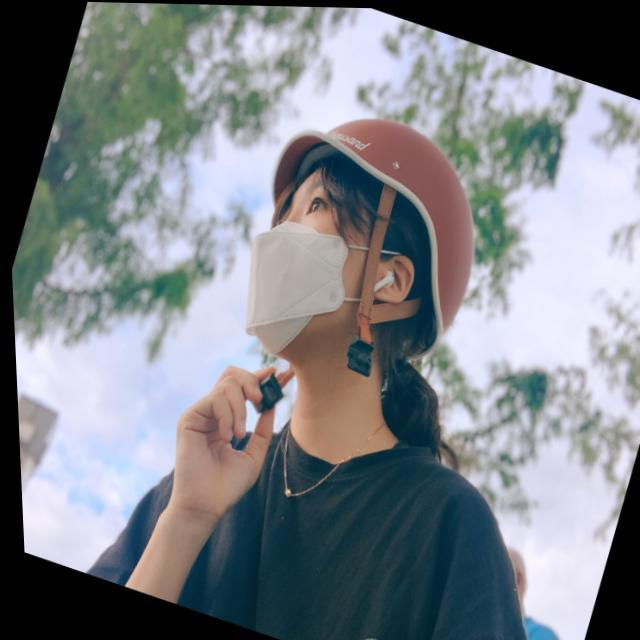Helmet: (239, 100, 492, 387)
